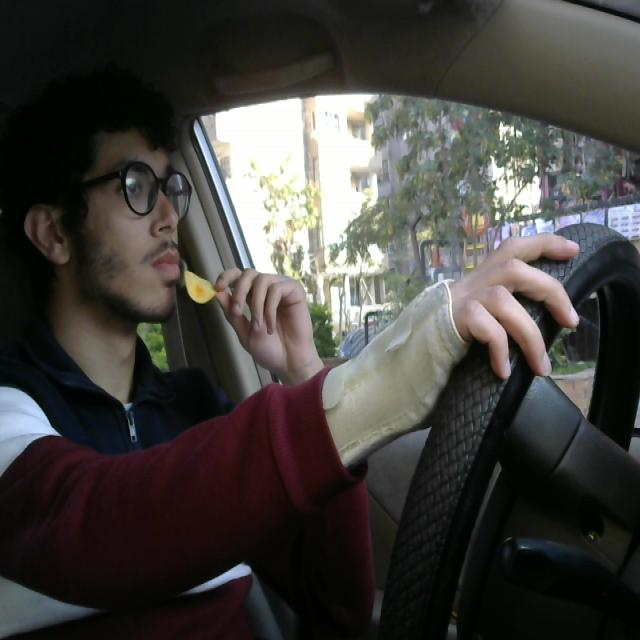eating: (179, 257, 232, 310)
